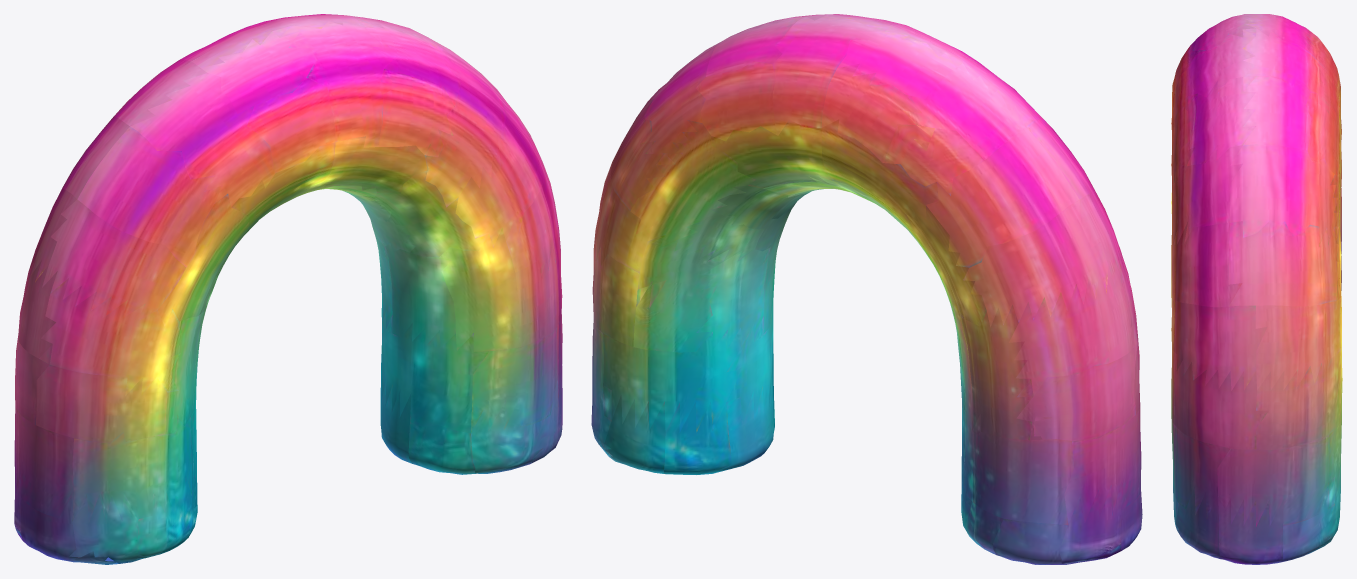
Rendered from jelly-arch.glb.
3 views of the same model, side by side, from view 1: azimuth 30°, elevation 25°; view 2: azimuth 150°, elevation 25°; view 3: azimuth 270°, elevation 25° (orthographic). The views are drawn at different scales.
Size of the model in its own units: 1 by 0.8555 by 0.3135.
1 material, 1 textured.
